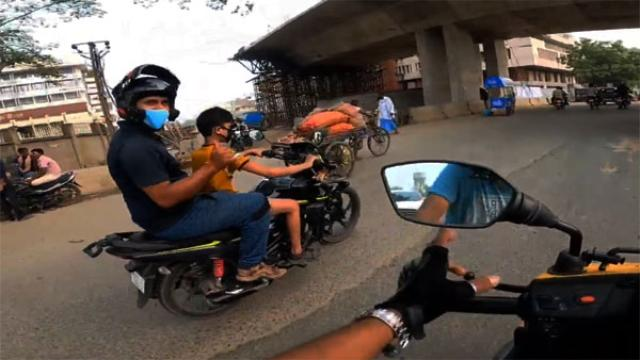motorcycle: (88, 54, 365, 321)
withHelmet: (114, 60, 184, 137)
withoutHelmet: (198, 108, 236, 144)
